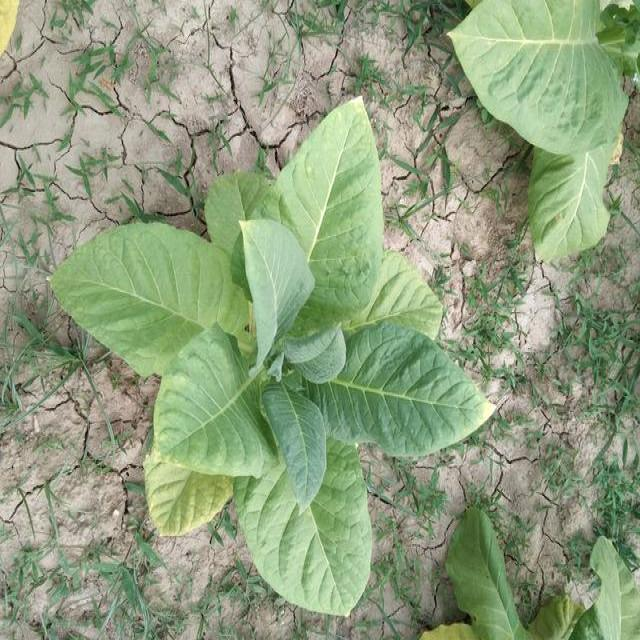crop: (54, 95, 493, 627), (459, 3, 636, 269), (433, 493, 637, 640)
